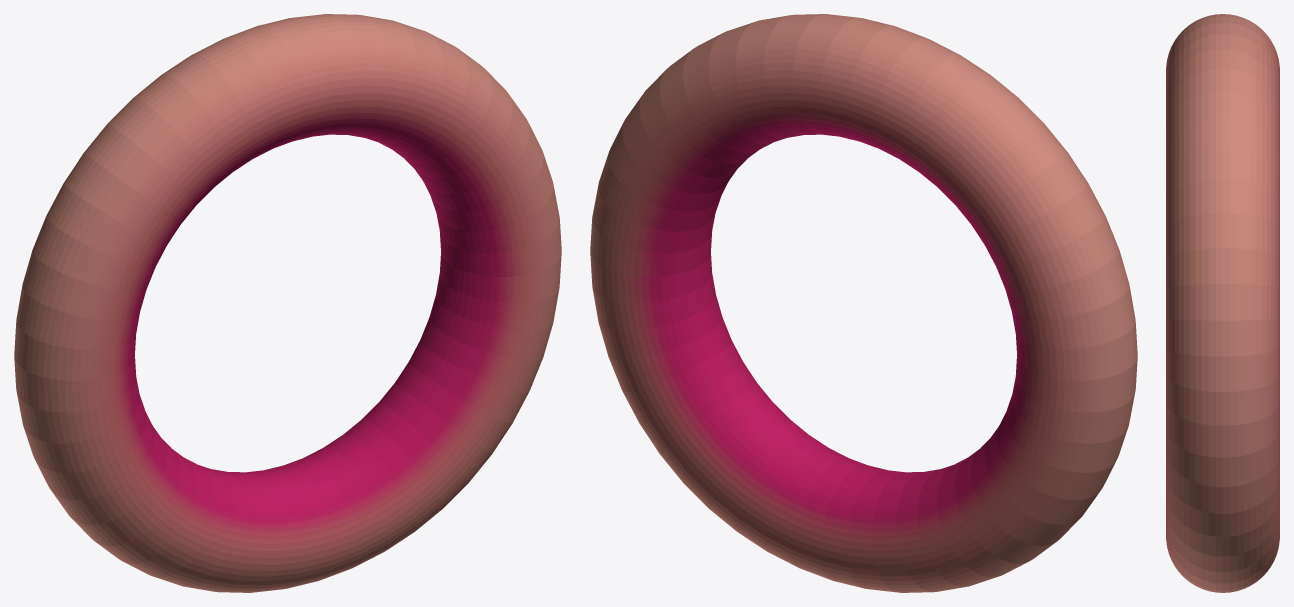
The picture shows the model from 3 angles, left to right: view 1: azimuth 30°, elevation 25°; view 2: azimuth 150°, elevation 25°; view 3: azimuth 270°, elevation 25°; orthographic projection. The views are drawn at different scales.
Parts seen in each view (by area): view 1: world; view 2: world; view 3: world.
Part boxes in pixels (bbox=[...]): world: bbox=[14, 14, 561, 592]; world: bbox=[590, 14, 1137, 592]; world: bbox=[1166, 14, 1279, 592].
Bounding box in the file's own units: 33.2 × 33.13 × 6.52.
